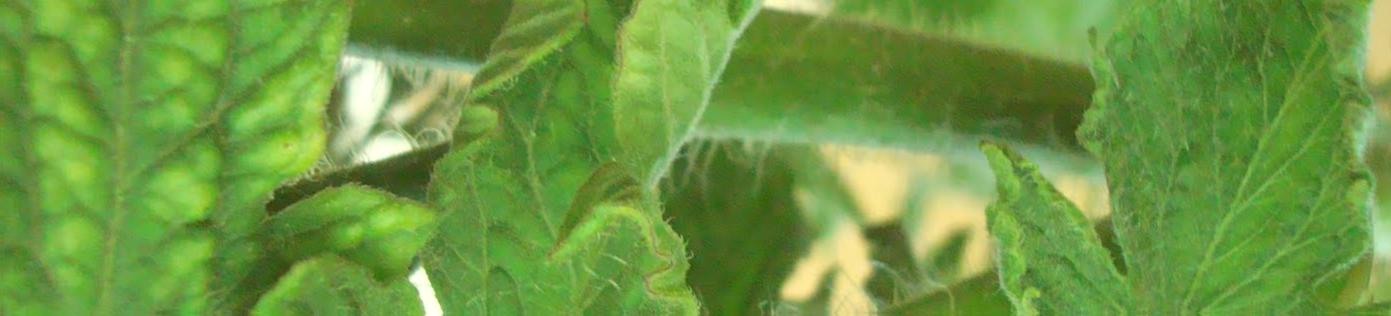Tomato leaf mosaic virus: (245, 0, 904, 316), (972, 0, 1391, 316), (0, 0, 401, 316)
